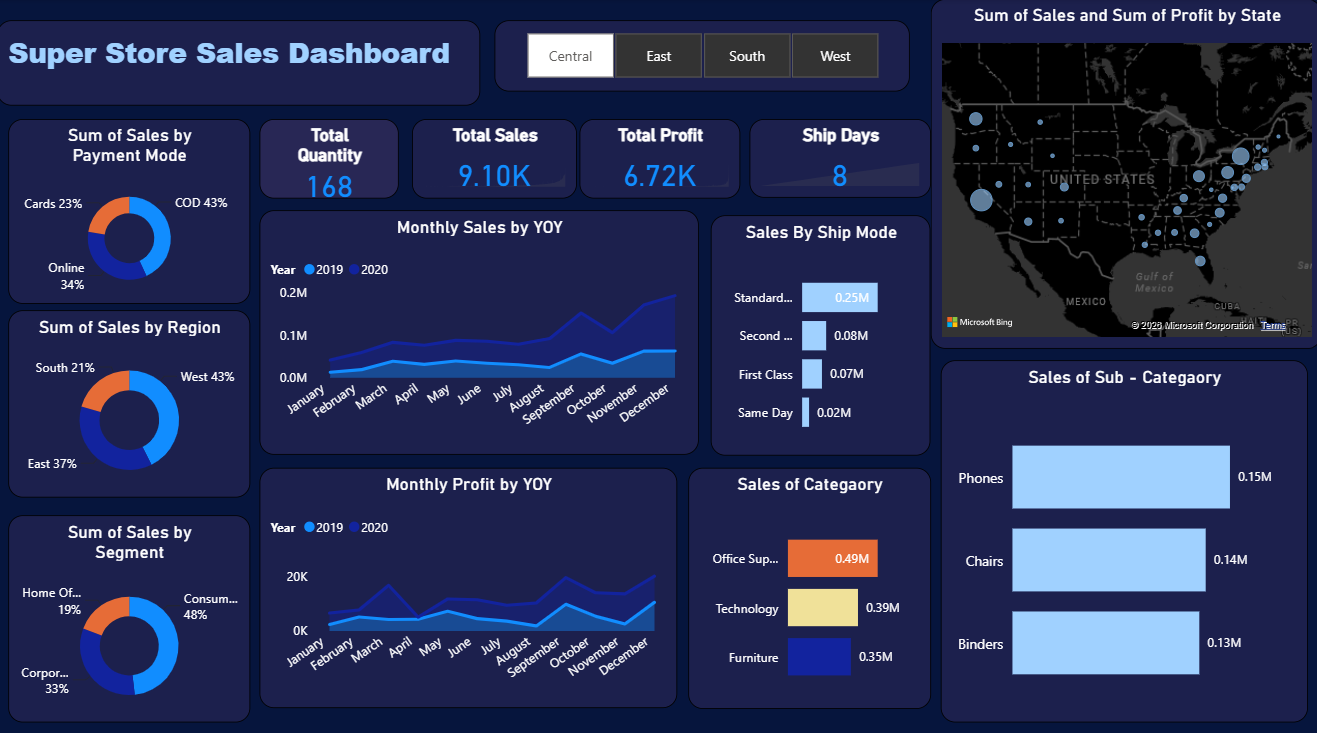

The dashboard page shown, as its layout file describes it:
{"tool":"powerbi","page":{"name":"Page 1","canvas":[1280,720],"ordinal":0},"visuals":[{"type":"clusteredBarChart","title":"Sales of Categaory","fields":{"Category":["SuperStore_Sales_Dataset.Category"],"Y":["Sum(SuperStore_Sales_Dataset.Sales)"]},"box":[667.2,452.4,234,232.8],"z":0},{"type":"clusteredBarChart","title":"Sales of Sub - Categaory","fields":{"Category":["SuperStore_Sales_Dataset.Sub-Category"],"Y":["Sum(SuperStore_Sales_Dataset.Sales)"]},"box":[911.2,348.5,354,349.9],"z":1000},{"type":"clusteredBarChart","title":"Sales By Ship Mode","fields":{"Category":["SuperStore_Sales_Dataset.Ship Mode"],"Y":["Sum(SuperStore_Sales_Dataset.Sales)"]},"box":[688.9,208.7,212.3,231.6],"z":2000},{"type":"stackedAreaChart","title":"Monthly Sales by YOY","fields":{"Y":["Sum(SuperStore_Sales_Dataset.Sales)"],"Category":["SuperStore_Sales_Dataset.Order Date.Variation.Date Hierarchy.Month","SuperStore_Sales_Dataset.Order Date.Variation.Date Hierarchy.Day"],"Series":["SuperStore_Sales_Dataset.Order Date.Variation.Date Hierarchy.Year"]},"box":[253.9,204.5,424,236],"z":3000},{"type":"stackedAreaChart","title":"Monthly Profit by YOY","fields":{"Category":["SuperStore_Sales_Dataset.Order Date.Variation.Date Hierarchy.Month","SuperStore_Sales_Dataset.Order Date.Variation.Date Hierarchy.Day"],"Series":["SuperStore_Sales_Dataset.Order Date.Variation.Date Hierarchy.Year"],"Y":["Sum(SuperStore_Sales_Dataset.Profit)"]},"box":[253.9,452.8,403.4,231.9],"z":4000},{"type":"map","fields":{"Category":["SuperStore_Sales_Dataset.State"],"Size":["Sum(SuperStore_Sales_Dataset.Sales)"]},"box":[901.5,0,378.7,337.6],"z":5000},{"type":"donutChart","fields":{"Category":["SuperStore_Sales_Dataset.Segment"],"Y":["Sum(SuperStore_Sales_Dataset.Sales)"]},"box":[11,498.1,233.3,200.3],"z":6000},{"type":"donutChart","fields":{"Category":["SuperStore_Sales_Dataset.Region"],"Y":["Sum(SuperStore_Sales_Dataset.Sales)"]},"box":[11,300.5,233.3,181.1],"z":7000},{"type":"donutChart","fields":{"Category":["SuperStore_Sales_Dataset.Payment Mode"],"Y":["Sum(SuperStore_Sales_Dataset.Sales)"]},"box":[11,115.3,233.3,178.4],"z":8000},{"type":"slicer","fields":{"Values":["SuperStore_Sales_Dataset.Region"]},"box":[480.2,20.5,400.5,68.8],"z":9000},{"type":"textbox","box":[0,20.6,466.6,82.3],"z":10000},{"type":"kpi","title":"Total Sales","fields":{"Indicator":["Sum(SuperStore_Sales_Dataset.Sales)"],"TrendLine":["SuperStore_Sales_Dataset.Sales"]},"box":[400.7,115.3,159.2,76.8],"z":11000},{"type":"kpi","title":"Total Quantity ","fields":{"Indicator":["Sum(SuperStore_Sales_Dataset.Quantity)"],"TrendLine":["SuperStore_Sales_Dataset.Quantity"]},"box":[253.9,115.3,134.5,76.8],"z":12000},{"type":"kpi","title":"Total Profit","fields":{"Indicator":["Sum(SuperStore_Sales_Dataset.Profit)"],"TrendLine":["SuperStore_Sales_Dataset.Profit"]},"box":[562.6,115.3,155.1,76.8],"z":13000},{"type":"kpi","title":"Ship Days","fields":{"Indicator":["Avg(SuperStore_Sales_Dataset.AveDelivery)"],"TrendLine":["SuperStore_Sales_Dataset.AveDelivery"]},"box":[726.3,115.8,174.9,76],"z":14000}]}

Visuals, with their boxes in screenshot pixels (x1, y1, x2, y2), scaled from the page's 1280x720 canvas onto the 1317x733 screenshot:
"Sales of Categaory" clusteredBarChart: <bbox>686, 461, 927, 698</bbox>
"Sales of Sub - Categaory" clusteredBarChart: <bbox>938, 355, 1302, 711</bbox>
"Sales By Ship Mode" clusteredBarChart: <bbox>709, 212, 927, 448</bbox>
"Monthly Sales by YOY" stackedAreaChart: <bbox>261, 208, 697, 448</bbox>
"Monthly Profit by YOY" stackedAreaChart: <bbox>261, 461, 676, 697</bbox>
map - SuperStore_Sales_Dataset.State x Sum(SuperStore_Sales_Dataset.Sales): <bbox>928, 0, 1316, 344</bbox>
donutChart - SuperStore_Sales_Dataset.Segment x Sum(SuperStore_Sales_Dataset.Sales): <bbox>11, 507, 251, 711</bbox>
donutChart - SuperStore_Sales_Dataset.Region x Sum(SuperStore_Sales_Dataset.Sales): <bbox>11, 306, 251, 490</bbox>
donutChart - SuperStore_Sales_Dataset.Payment Mode x Sum(SuperStore_Sales_Dataset.Sales): <bbox>11, 117, 251, 299</bbox>
slicer - SuperStore_Sales_Dataset.Region: <bbox>494, 21, 906, 91</bbox>
textbox: <bbox>0, 21, 480, 105</bbox>
"Total Sales" kpi: <bbox>412, 117, 576, 196</bbox>
"Total Quantity " kpi: <bbox>261, 117, 400, 196</bbox>
"Total Profit" kpi: <bbox>579, 117, 738, 196</bbox>
"Ship Days" kpi: <bbox>747, 118, 927, 195</bbox>
